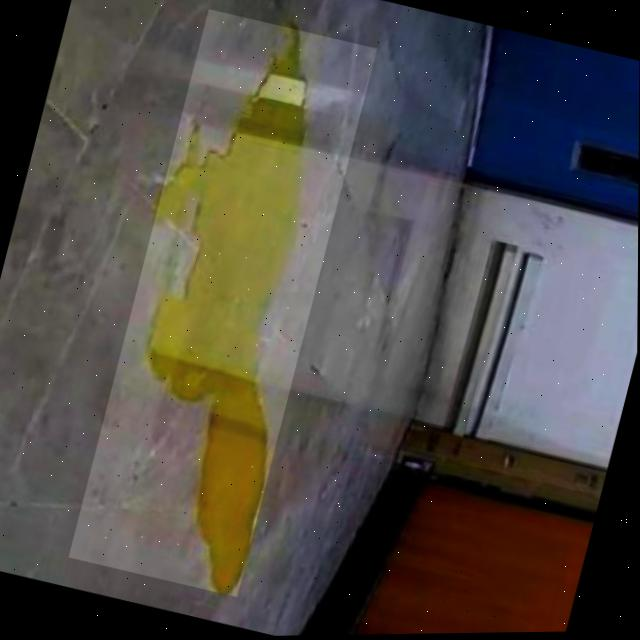spillage: (147, 30, 305, 595)
